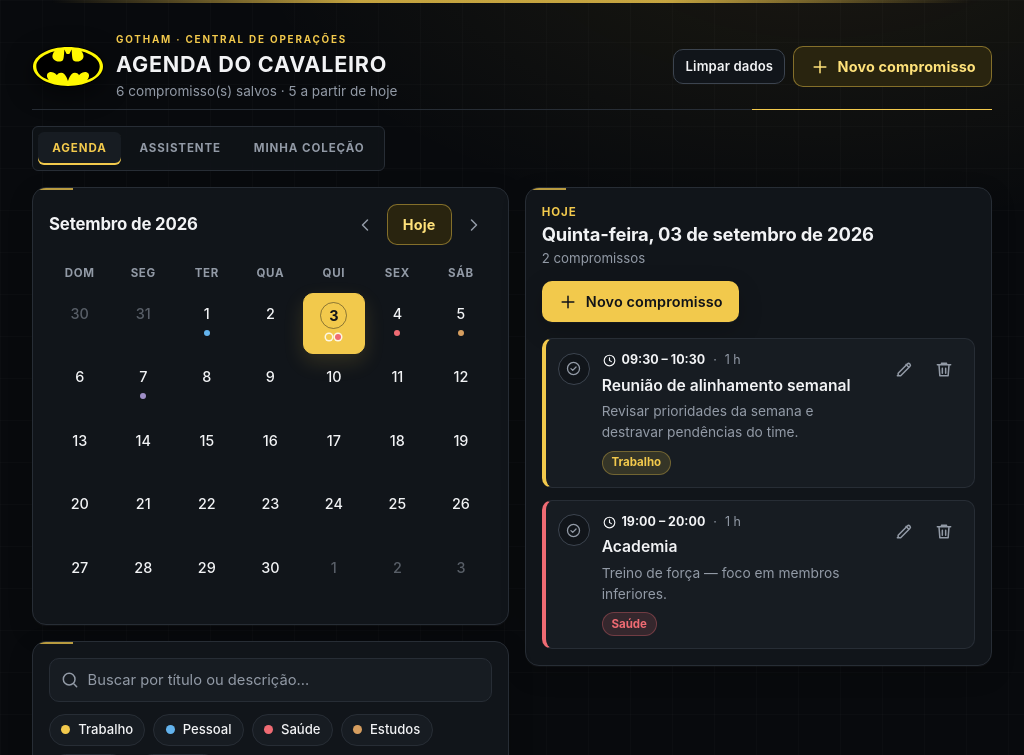
Test case: gestão dos dados locais › limpa todos os compromissos após confirmação e oferece recarregar exemplos
The image size is (1024, 755).
Expected: the heading "Reunião de alinhamento semanal" is shown, [602,374,874,397]
Click the button "Limpar dados" at (729, 67), box [673,49,785,84]
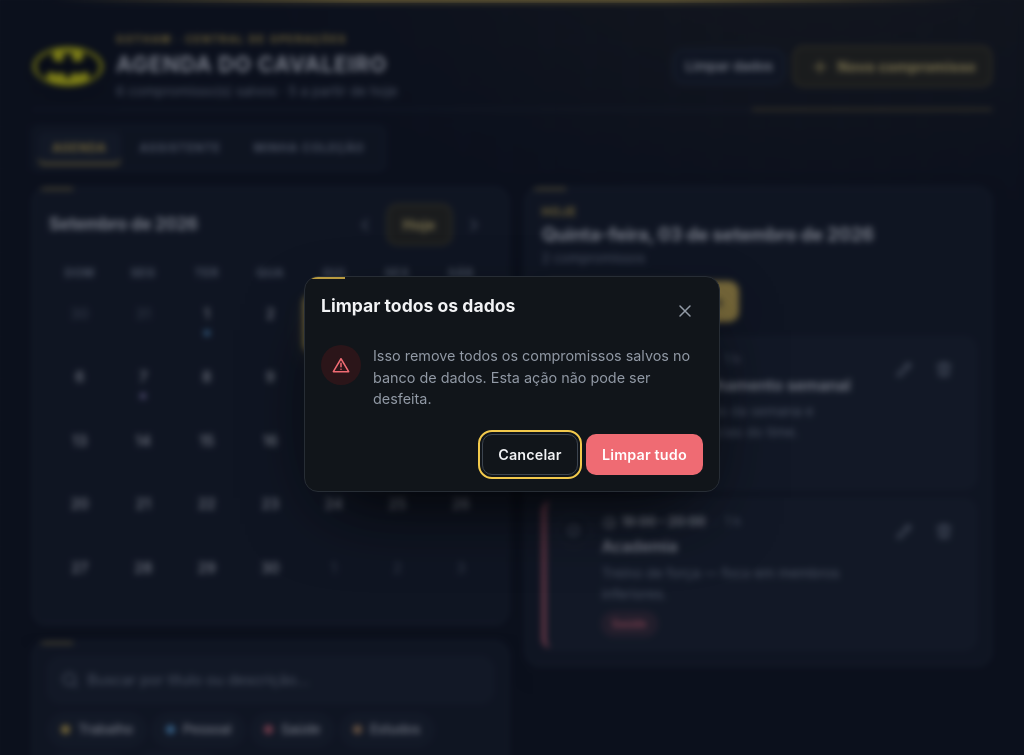
Click the button "Limpar tudo" at (644, 454), box [586,434,703,475]
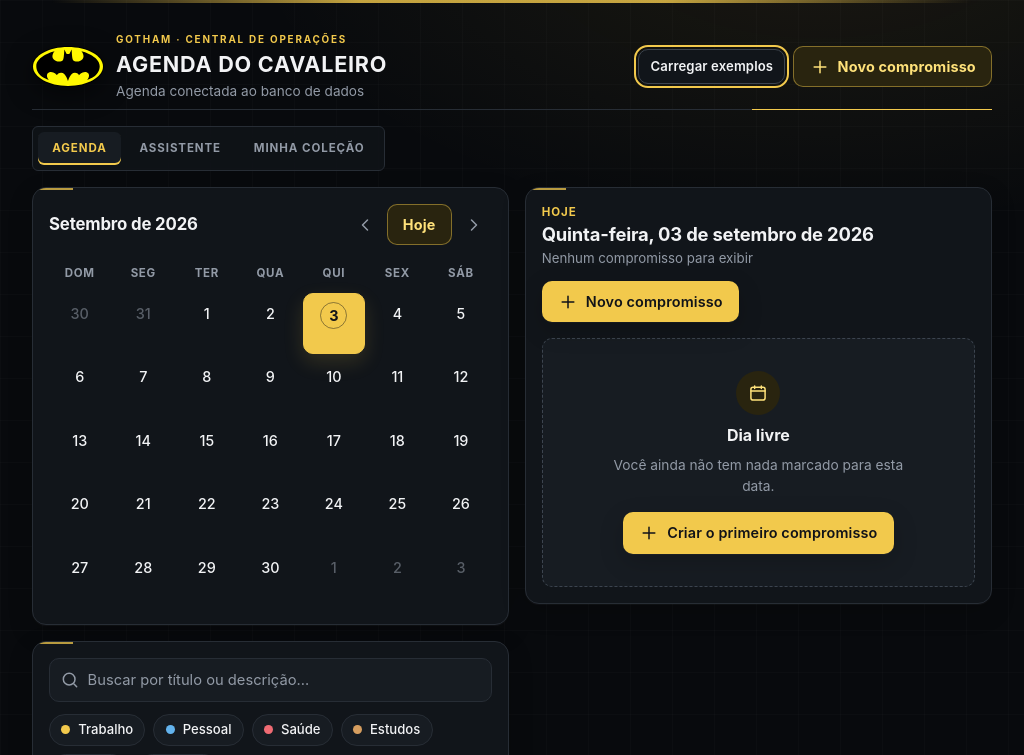
Result: the dialog is gone
Result: the text "Dia livre" is shown at [727,423,790,447]
Click the button "Carregar exemplos" at (712, 67), box [638,49,785,84]
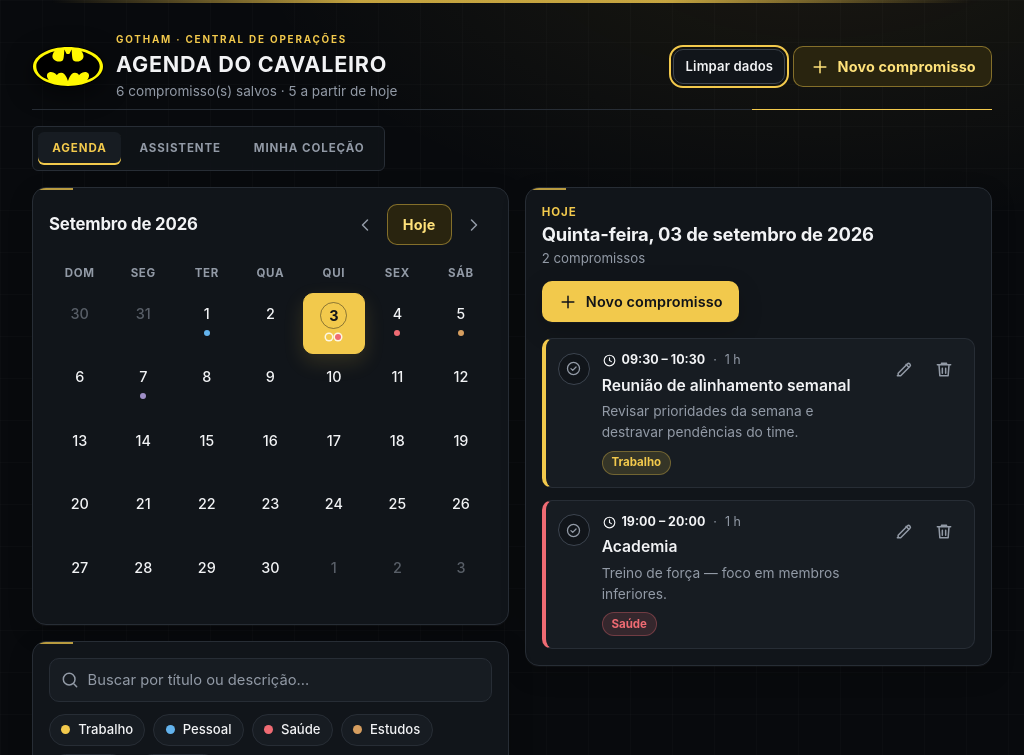
Result: the heading "Reunião de alinhamento semanal" is shown at [602,374,874,397]
